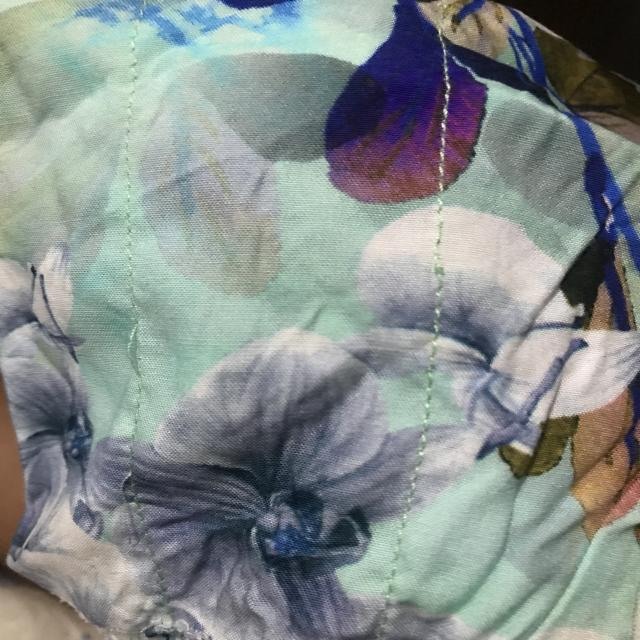skip: (108, 316, 163, 376)
